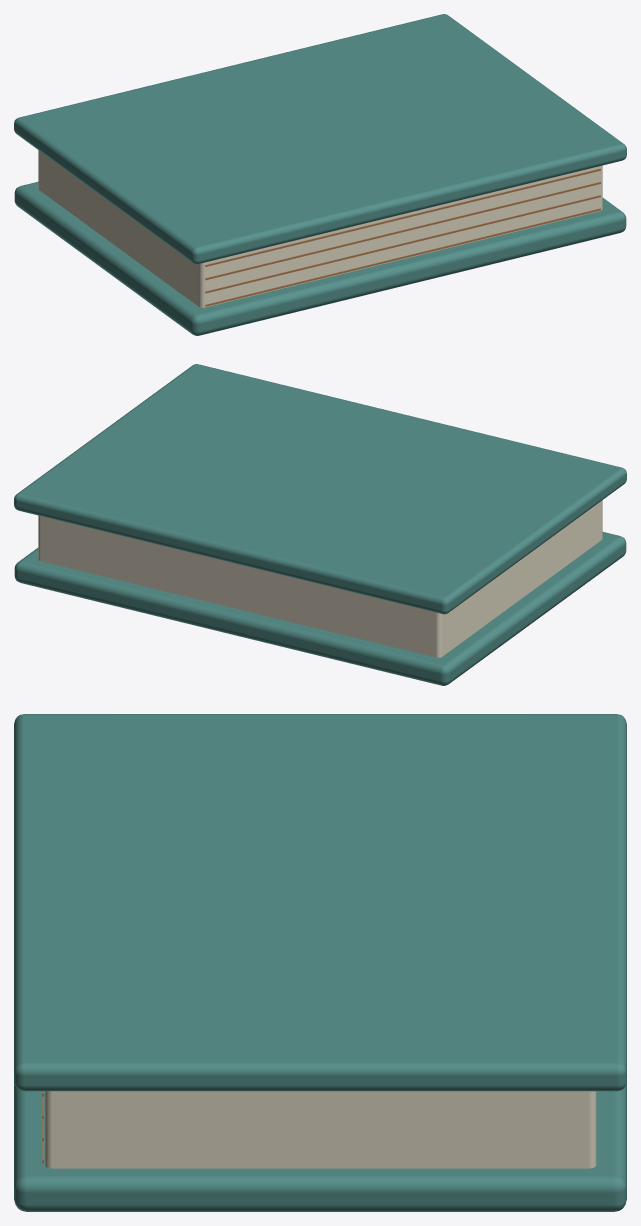
Rendered from journal.glb.
3 renders of one model, top to bottom at view 1: azimuth 30°, elevation 25°; view 2: azimuth 150°, elevation 25°; view 3: azimuth 270°, elevation 25°, orthographic. The views are drawn at different scales.
Visible parts, largest first — view 1: journal; view 2: journal; view 3: journal.
Boxes of the visible parts, x1,y1,x2,y2 form: journal: [14, 14, 626, 335]; journal: [14, 364, 626, 685]; journal: [14, 714, 626, 1211].
Bounding box in the file's own units: 0.55 × 0.1075 × 0.4.
